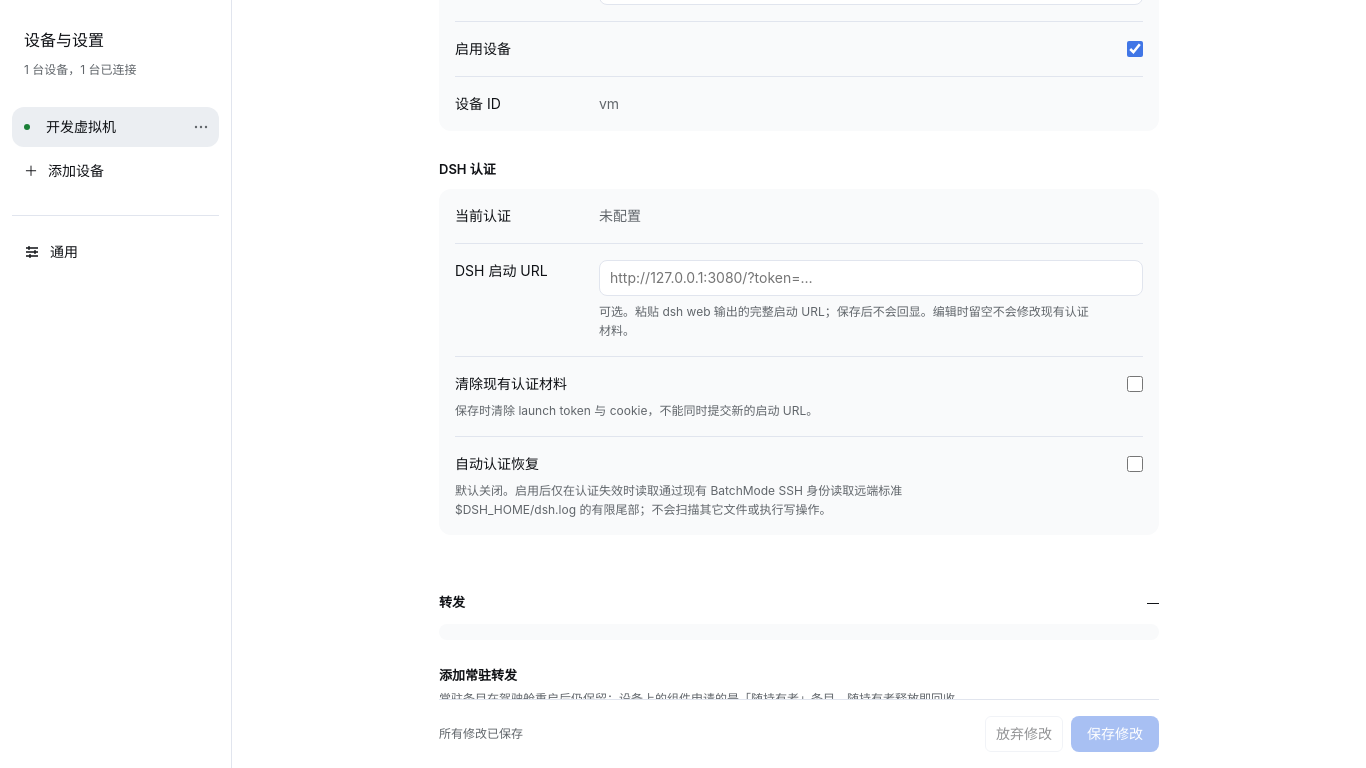
Test: device console › rejects conflicting clear and replacement before any request
(page scrolled)
Click the checkbox named "清除 DSH 认证材料" at [1135, 384], box 1127,376 -> 1143,392
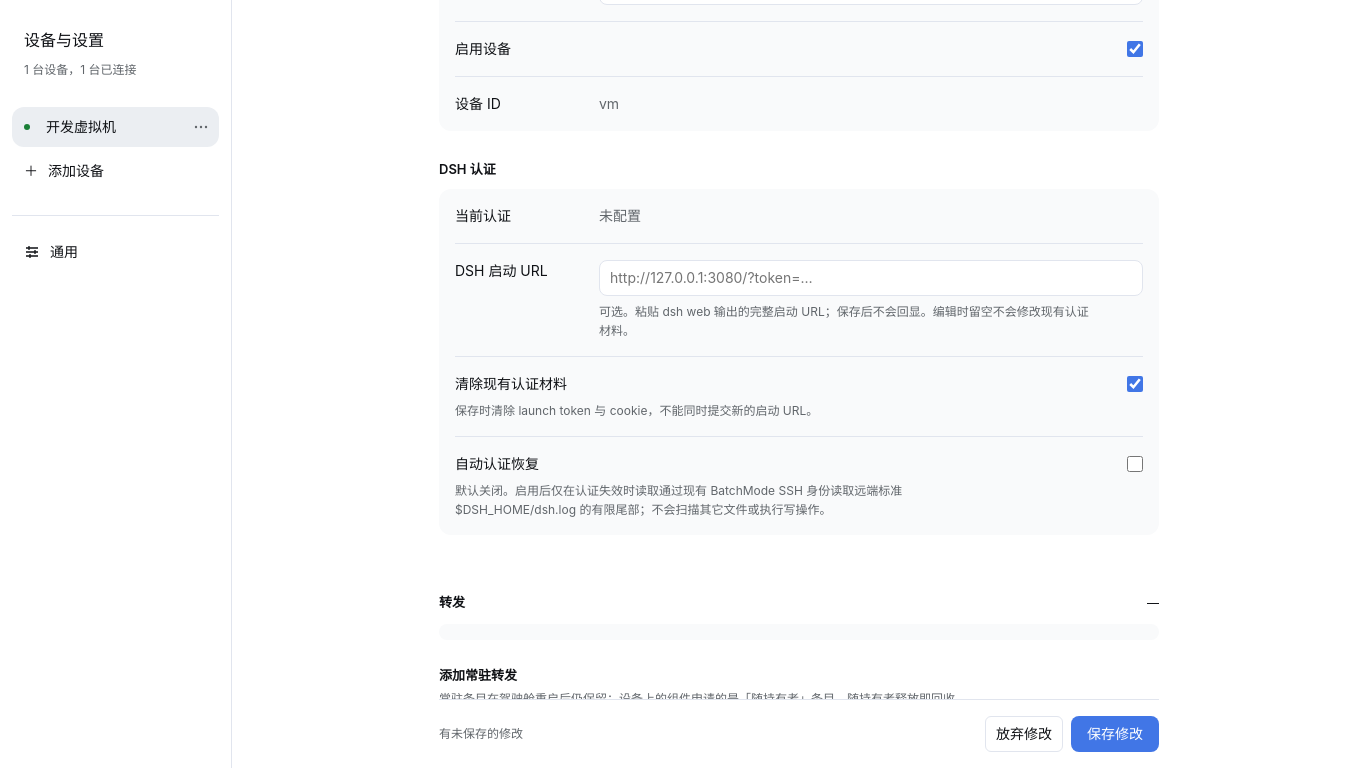
Type "http://127.0.0.1:3080/?token=test" into the field labelled "DSH 启动 URL" at [871, 278], box 599,260 -> 1143,296
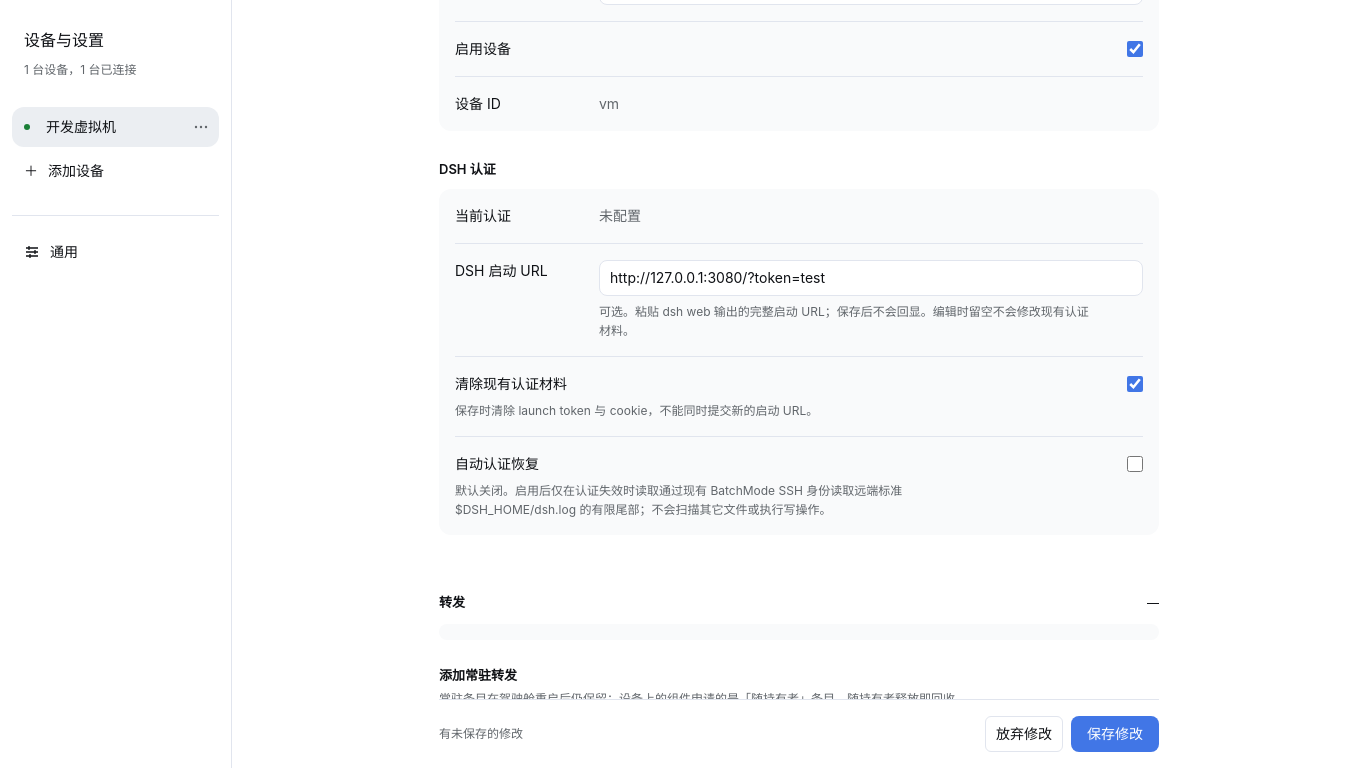
Click the button "保存修改" at [1115, 734], box 1071,716 -> 1159,752
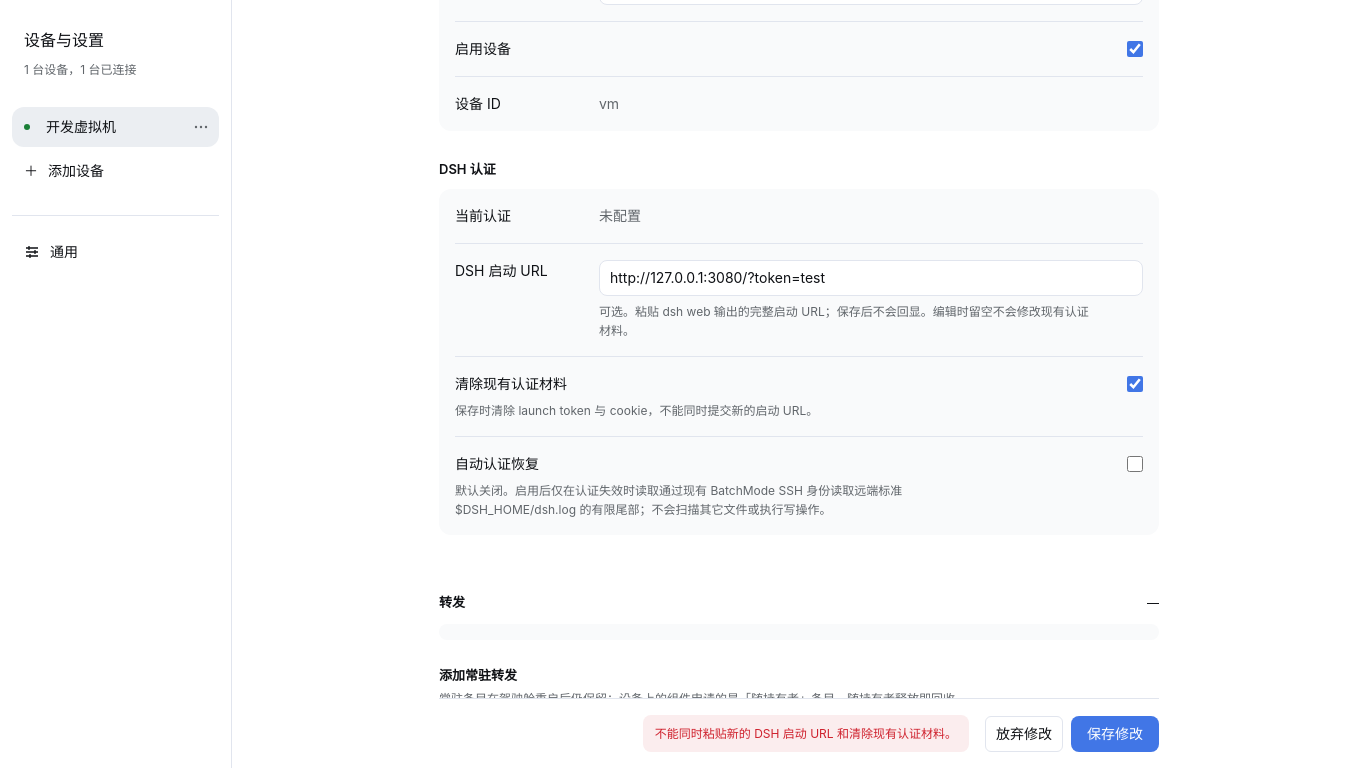
Expected: the message "不能同时粘贴新的 DSH 启动 URL 和清除现有认证材料。" is shown, 643,715 -> 969,752
